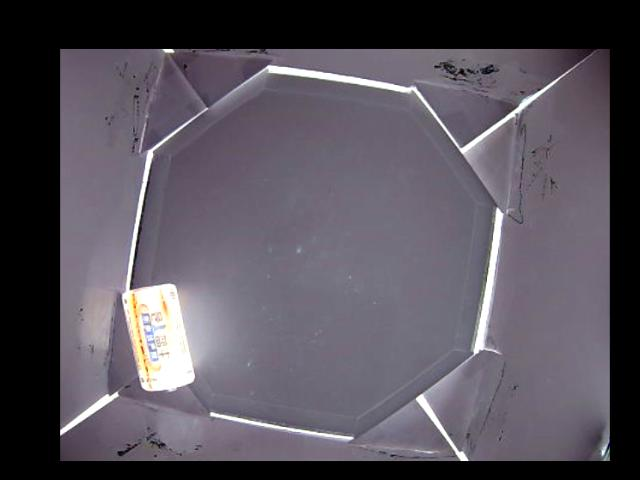Battery: (120, 284, 194, 388)
